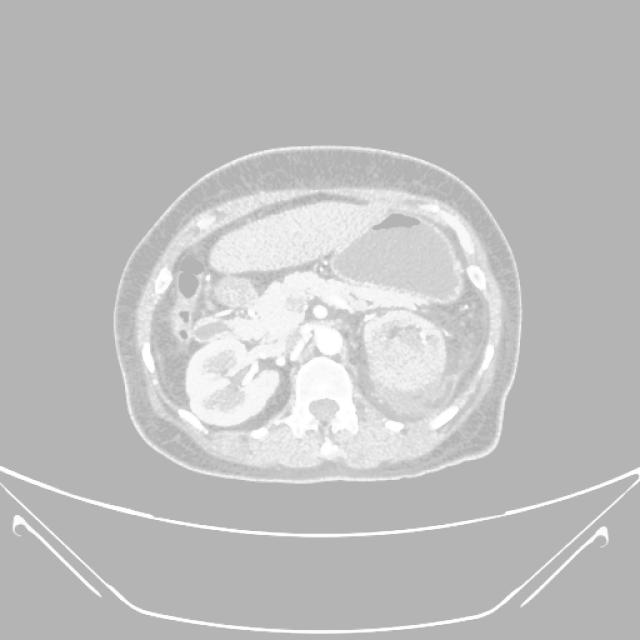TUMOR: (81, 177, 471, 362)
